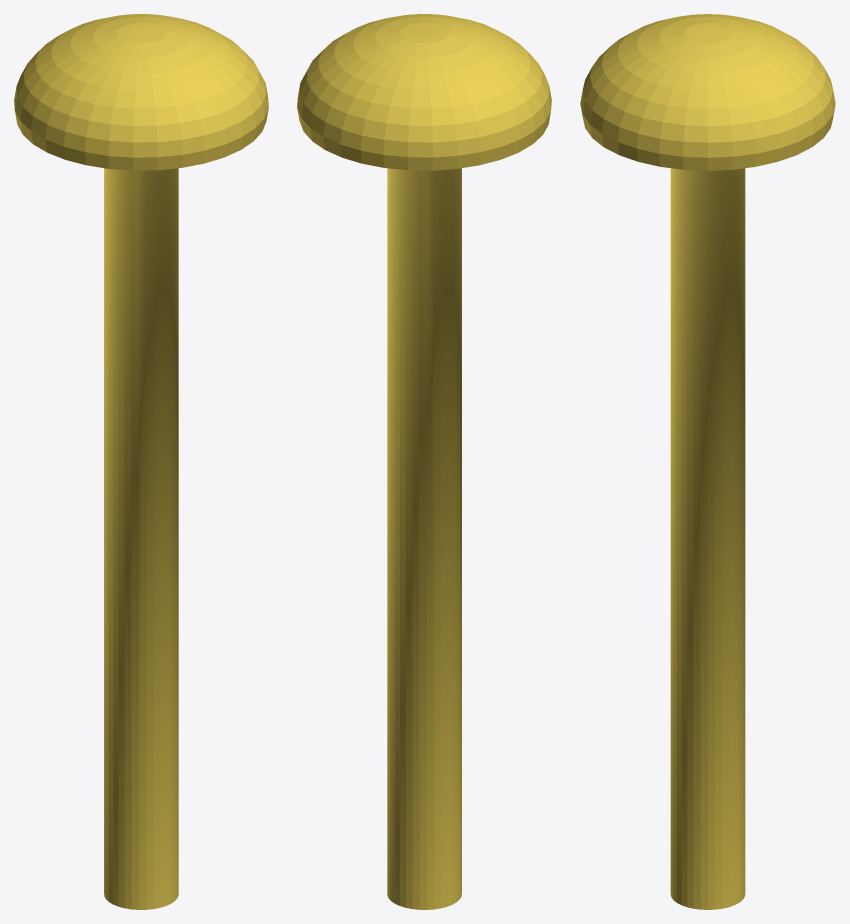
Rendered from Nail.fbx.
3 views of the same model, side by side, from view 1: azimuth 30°, elevation 25°; view 2: azimuth 150°, elevation 25°; view 3: azimuth 270°, elevation 25° (orthographic).
Visible parts, largest first — view 1: Nail; view 2: Nail; view 3: Nail.
Part boxes in pixels (bbox=[...]): Nail: bbox=[14, 14, 268, 909]; Nail: bbox=[297, 14, 551, 909]; Nail: bbox=[580, 14, 835, 909].
Size of the model in its own units: 0.9326 by 3.48 by 0.9326.
